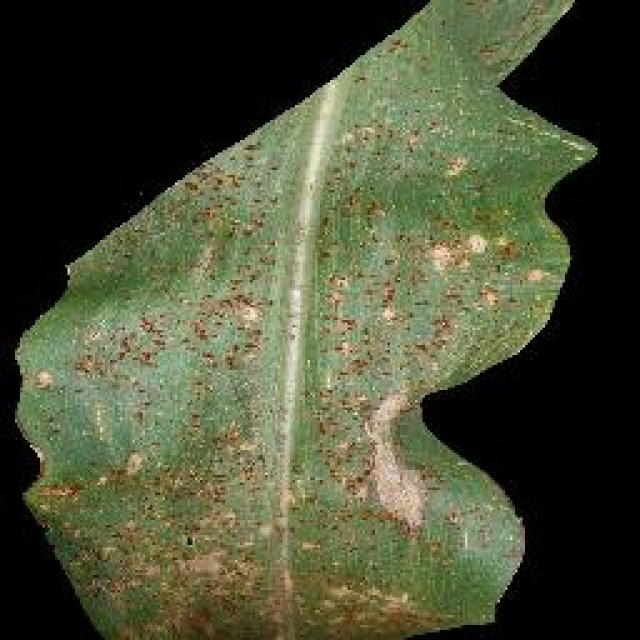Corn Common Rust: (105, 138, 530, 555)
